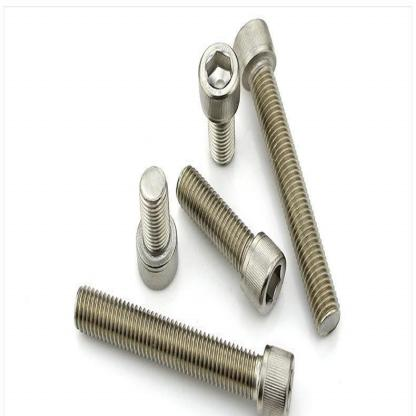FOD: (232, 16, 341, 341), (72, 283, 297, 415), (175, 163, 288, 316), (135, 164, 178, 294), (197, 41, 242, 163)
